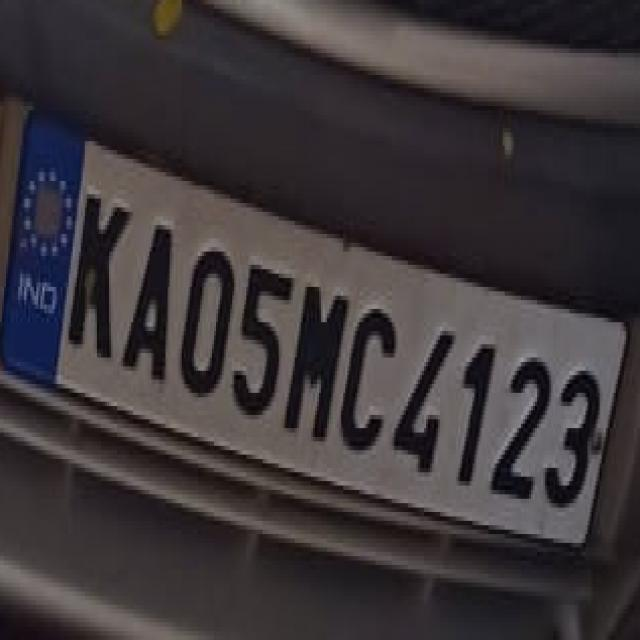0: (172, 224, 242, 412)
1: (441, 330, 500, 491)
3: (539, 352, 608, 520)
4: (385, 311, 463, 480)
5: (227, 246, 299, 427)
A: (117, 204, 182, 392)
C: (334, 291, 404, 465)
K: (60, 178, 138, 378)
M: (280, 271, 354, 448)
